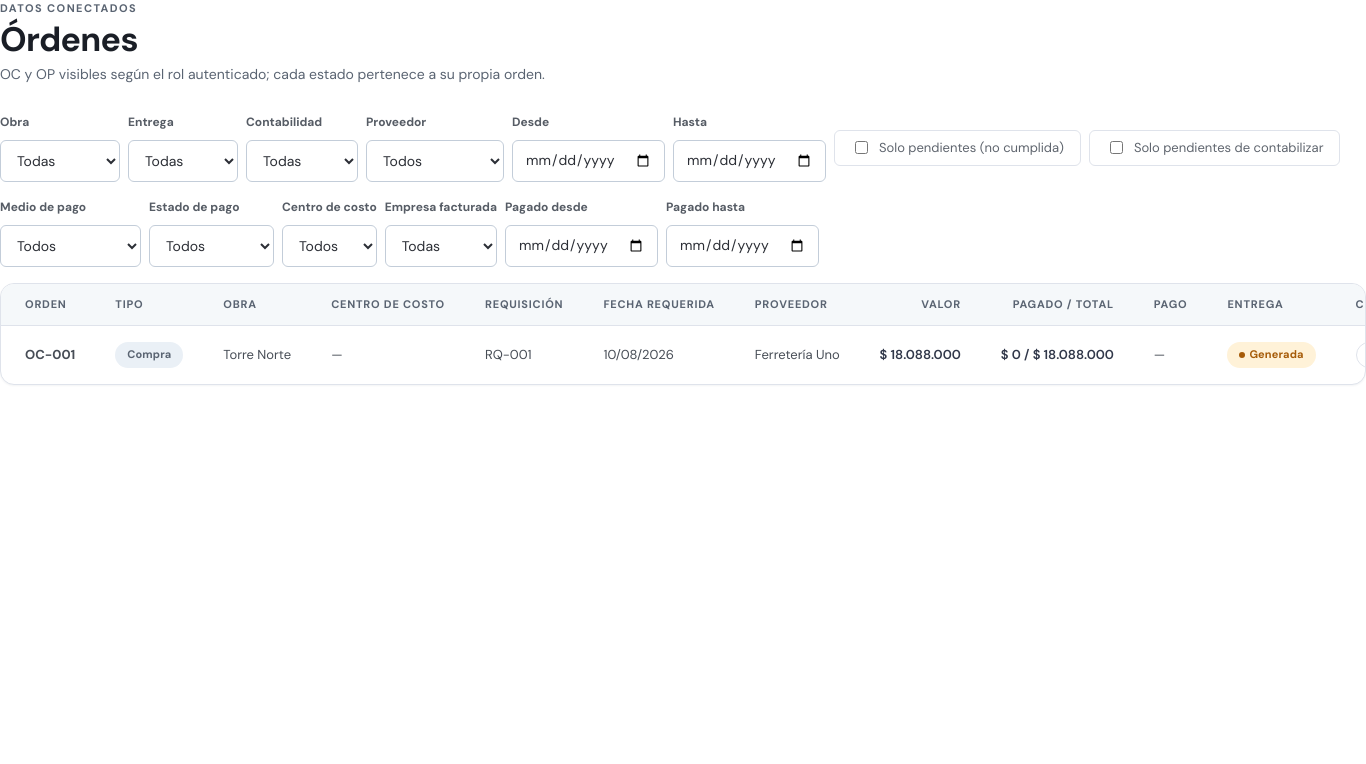
Test: BLOQUEANTE 1: el total de la ficha de la orden coincide con el del PDF › 400 bultos a $38.000 con IVA 19% dan $18.088.000, no $38.000
The image size is (1366, 764).
Click the text "OC-001". click: x=50, y=354
box: 25,346 -> 75,363
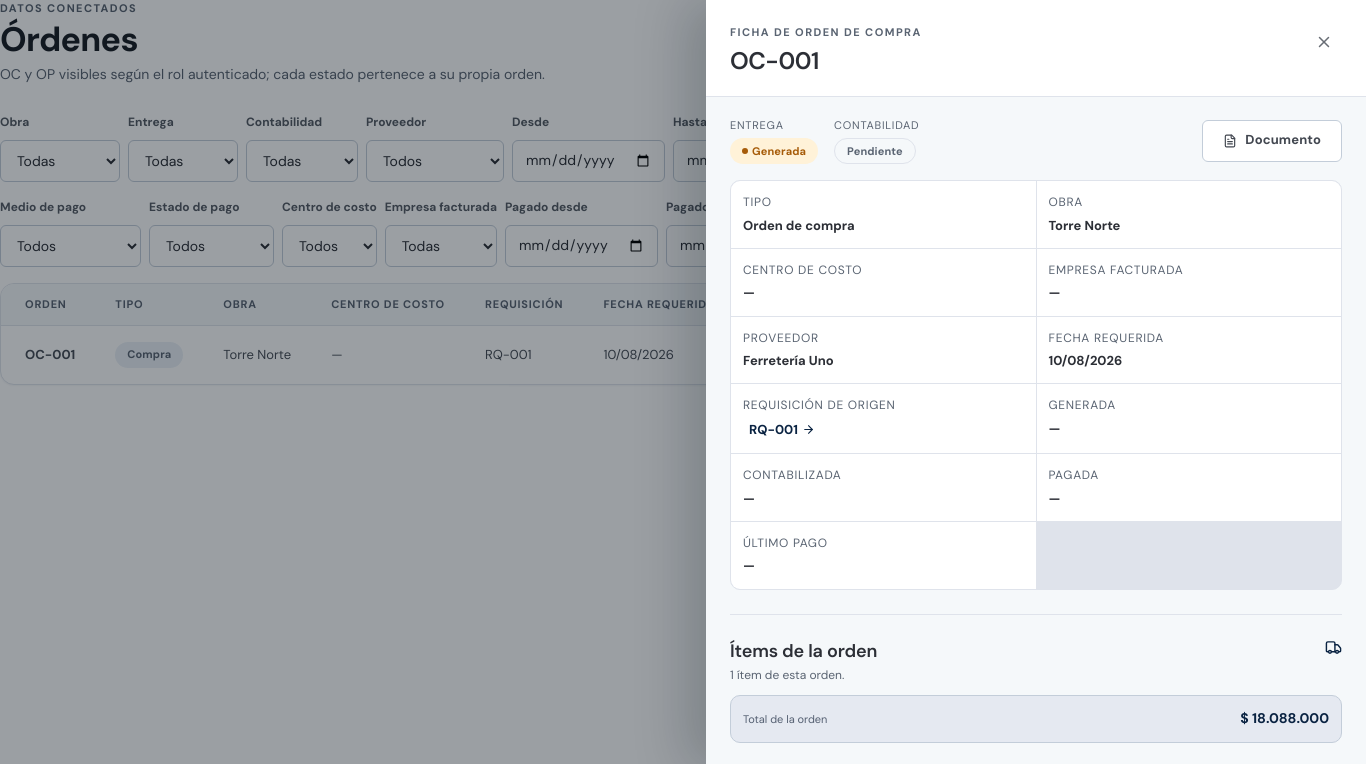
Expected: the text "$ 18.088.000" is shown, 860,325 -> 981,384
Expected: the text "Total de la orden" is shown, 743,711 -> 827,728
